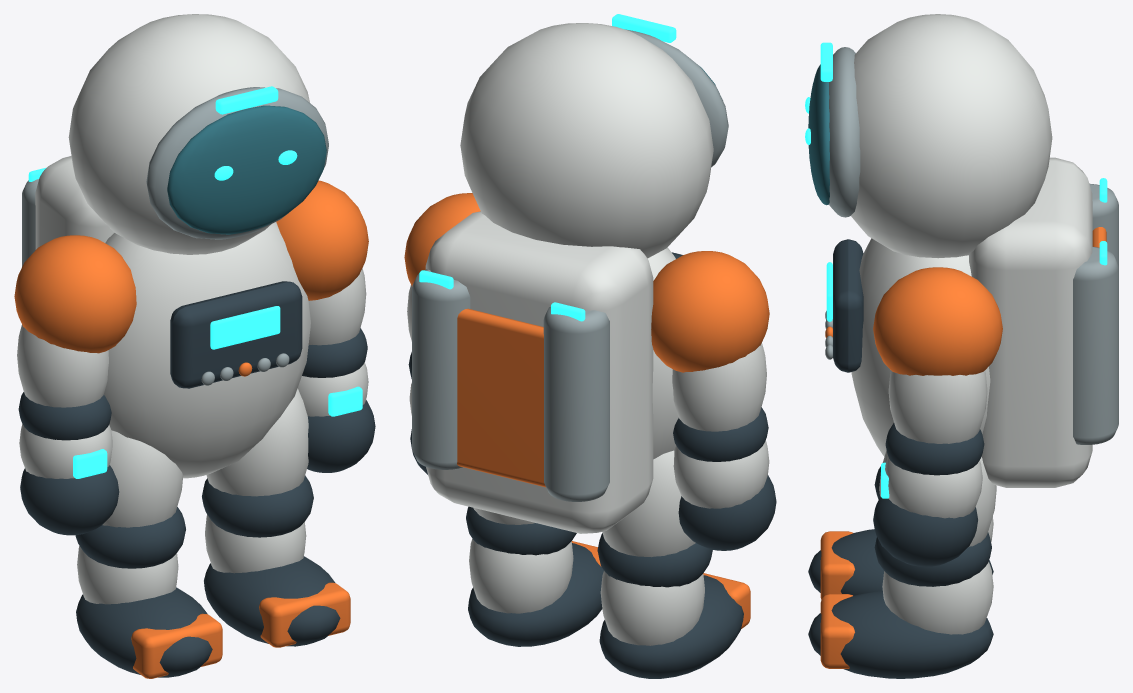
Rendered from astronaut.glb.
The picture shows the model from 3 angles, left to right: view 1: azimuth 30°, elevation 25°; view 2: azimuth 150°, elevation 25°; view 3: azimuth 270°, elevation 25°; orthographic projection. The views are drawn at different scales.
Parts seen in each view (by area): view 1: helmet, spacesuit torso, visor, shoulder L, chest control, shoulder R, boot R, boot L, thigh R, thigh L, upper arm L, visor rim (+19 smaller); view 2: helmet, life support backpack, backpack orange, backpack oxygen cartridge, shoulder L, backpack oxygen cartridge.001, boot L, boot R, upper arm L, shin R, shin L, thigh L (+10 smaller); view 3: helmet, life support backpack, shoulder R, boot R, backpack oxygen cartridge.001, spacesuit torso, upper arm R, shin R, glove R, visor rim, forearm R, chest control (+9 smaller).
Boxes of the visible parts, bbox=[...] form: helmet: bbox=[68, 14, 309, 254]; spacesuit torso: bbox=[104, 222, 310, 478]; visor: bbox=[167, 105, 326, 234]; shoulder L: bbox=[14, 235, 136, 353]; chest control: bbox=[170, 281, 302, 388]; shoulder R: bbox=[276, 180, 368, 300]; boot R: bbox=[204, 556, 340, 646]; boot L: bbox=[76, 587, 212, 677]; thigh R: bbox=[206, 388, 308, 496]; thigh L: bbox=[102, 430, 183, 527]; upper arm L: bbox=[17, 324, 108, 407]; visor rim: bbox=[146, 87, 328, 239]; helmet: bbox=[460, 23, 713, 258]; life support backpack: bbox=[425, 211, 653, 533]; backpack orange: bbox=[457, 308, 545, 487]; backpack oxygen cartridge: bbox=[543, 307, 609, 501]; shoulder L: bbox=[651, 251, 769, 372]; backpack oxygen cartridge.001: bbox=[412, 269, 470, 469]; boot L: bbox=[599, 575, 743, 678]; boot R: bbox=[468, 543, 603, 646]; upper arm L: bbox=[672, 343, 766, 431]; shin R: bbox=[469, 539, 573, 613]; shin L: bbox=[600, 571, 704, 645]; thigh L: bbox=[602, 450, 695, 557]; helmet: bbox=[851, 14, 1052, 258]; life support backpack: bbox=[969, 157, 1092, 487]; shoulder R: bbox=[873, 267, 1002, 375]; boot R: bbox=[808, 591, 993, 678]; backpack oxygen cartridge.001: bbox=[1073, 246, 1118, 444]; spacesuit torso: bbox=[851, 238, 990, 456]; upper arm R: bbox=[888, 370, 987, 443]; shin R: bbox=[882, 562, 993, 634]; glove R: bbox=[873, 496, 977, 566]; visor rim: bbox=[829, 47, 860, 217]; forearm R: bbox=[885, 457, 982, 518]; chest control: bbox=[833, 239, 863, 372].
Size of the model in its own units: 1.28 by 2.19 by 1.01.
